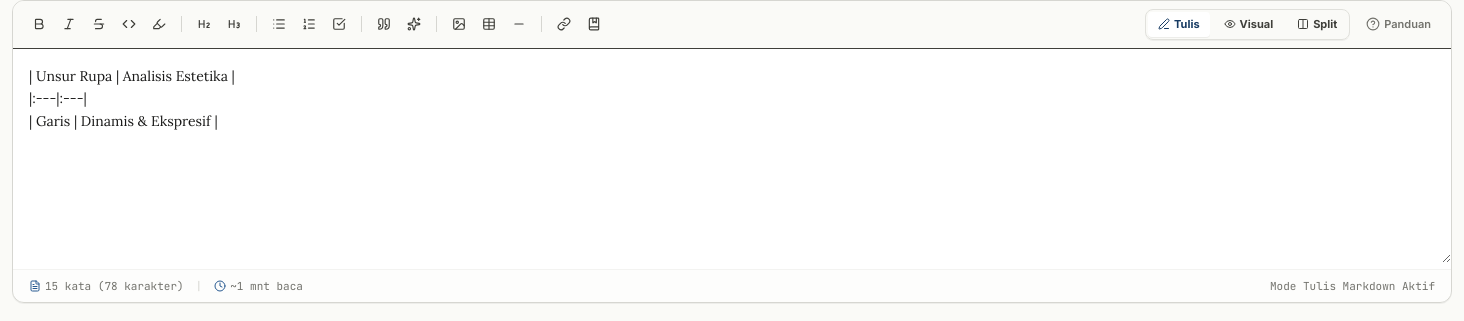
Test: RichTextEditor In-Situ View Modes › switches to in-situ visual rendered mode when Visual button is clicked
Step 1. Click the button "Visual" → [1248, 24], box [1214, 12, 1283, 36]
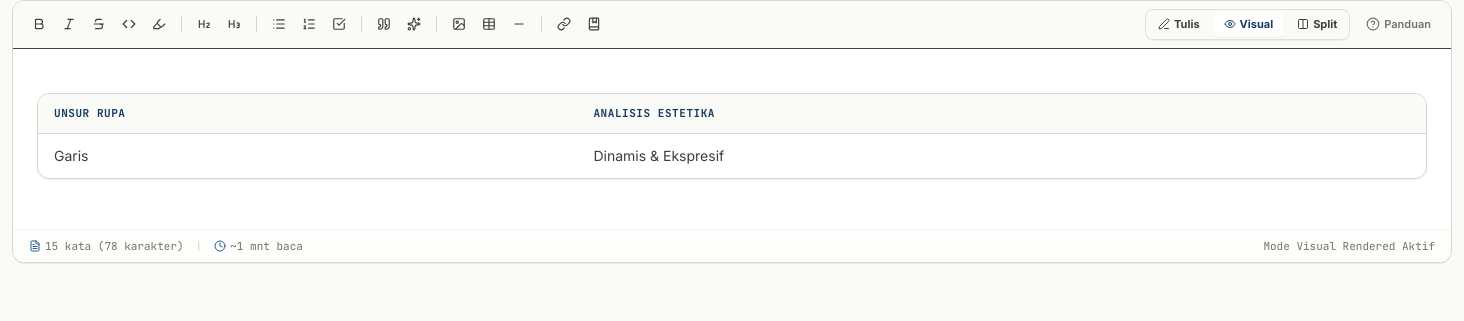
Check: the table is shown, box [38, 94, 1426, 178]
Check: the column heading "Unsur Rupa" is shown, box [38, 94, 578, 134]
Check: the text "Dinamis & Ekspresif" is shown, box [578, 134, 1426, 178]
